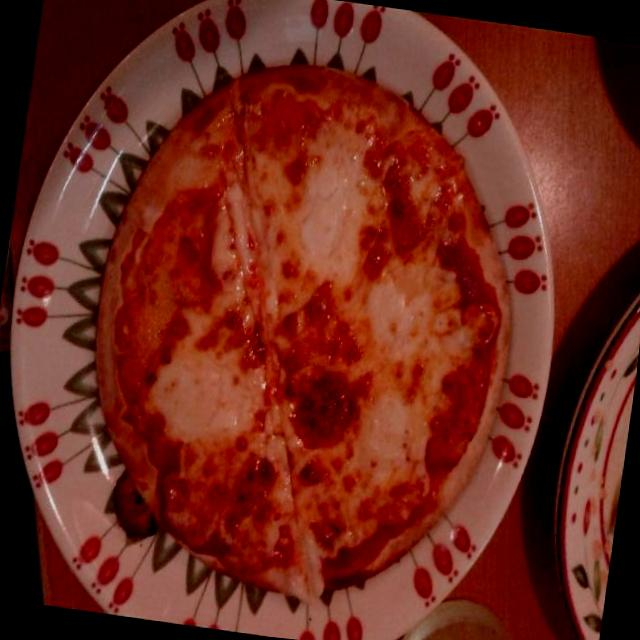Pizza: (54, 37, 554, 600)
